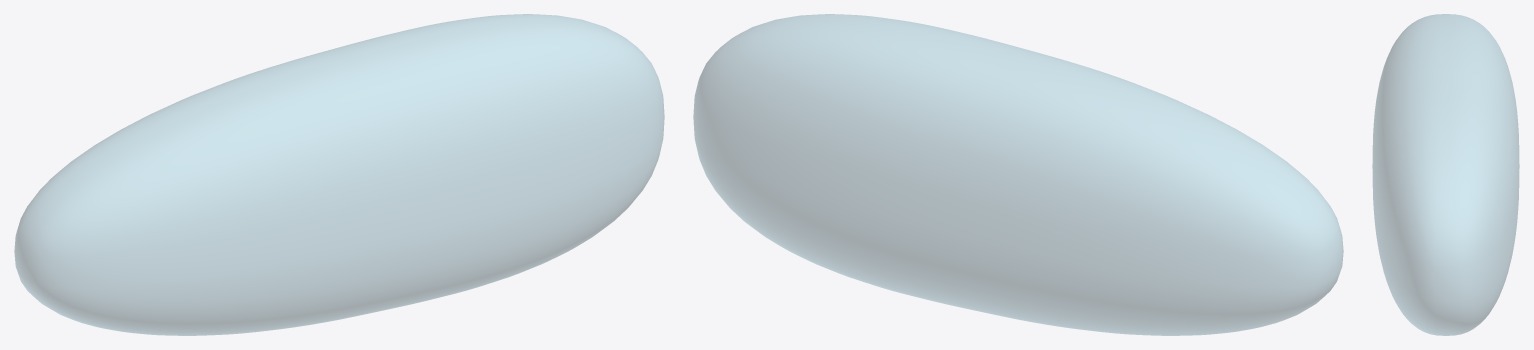
3 views of the same model, side by side, from view 1: azimuth 30°, elevation 25°; view 2: azimuth 150°, elevation 25°; view 3: azimuth 270°, elevation 25° (orthographic). The views are drawn at different scales.
Parts seen in each view (by area): view 1: gel-body; view 2: gel-body; view 3: gel-body.
Part boxes in pixels (x1,y1,x2,y2): gel-body: (14, 14, 664, 335); gel-body: (693, 14, 1343, 335); gel-body: (1372, 14, 1519, 335).
Bounding box in the file's own units: 2.6 × 0.9762 × 0.68.
